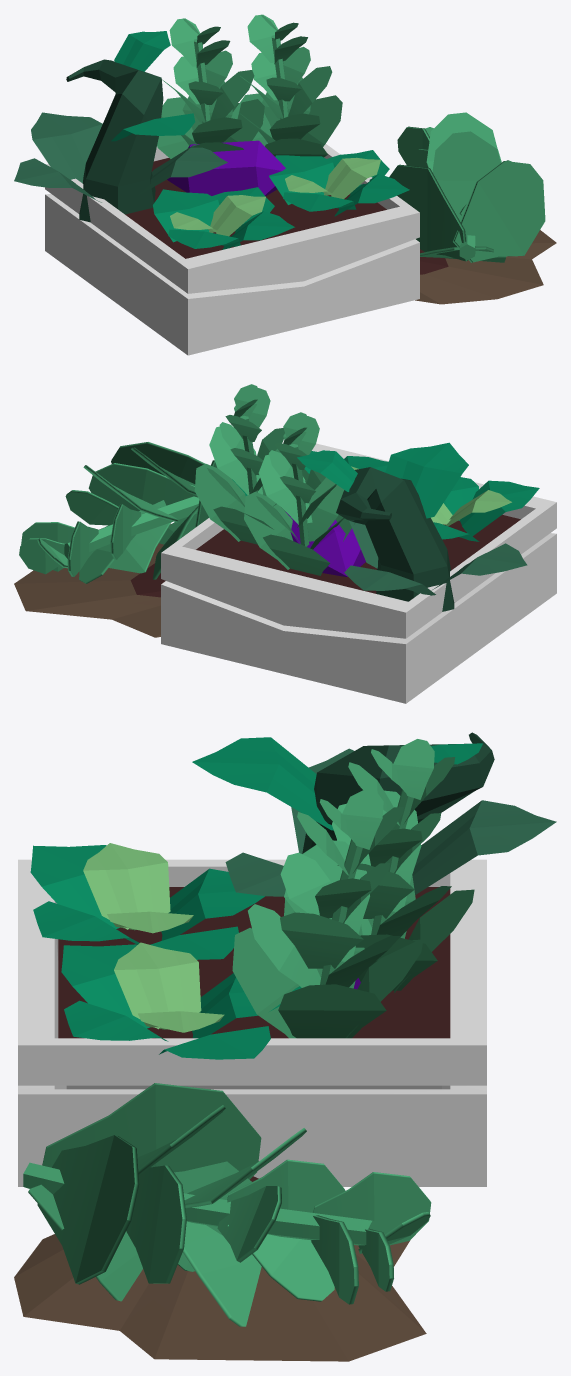
The model's file is Destroyed_plant_farm_005.fbx.
3 views of the same model, one above another, from view 1: azimuth 30°, elevation 25°; view 2: azimuth 150°, elevation 25°; view 3: azimuth 270°, elevation 25° (orthographic). The views are drawn at different scales.
Parts seen in each view (by area): view 1: polySurface1103, polySurface2858, polySurface1102, polySurface2421, polySurface2416, polySurface2387, polySurface2406, polySurface2407, polySurface2868, polySurface1104, polySurface2388, polySurface2389 (+4 smaller); view 2: polySurface1103, polySurface1102, polySurface2858, polySurface2416, polySurface2387, polySurface2421, polySurface2868, polySurface2406, polySurface1104, polySurface2393, polySurface2388, polySurface2389 (+4 smaller); view 3: polySurface2858, polySurface1102, polySurface1103, polySurface2421, polySurface2868, polySurface2406, polySurface2407, polySurface2416, polySurface1104, polySurface2389, polySurface2387, polySurface2393 (+3 smaller).
Part boxes in pixels (left/top/right/bottom): polySurface1103: left=45, top=194, right=419, bottom=355; polySurface2858: left=389, top=112, right=545, bottom=262; polySurface1102: left=45, top=144, right=419, bottom=293; polySurface2421: left=231, top=14, right=342, bottom=157; polySurface2416: left=157, top=18, right=264, bottom=158; polySurface2387: left=66, top=59, right=163, bottom=222; polySurface2406: left=153, top=187, right=294, bottom=249; polySurface2407: left=269, top=150, right=409, bottom=216; polySurface2868: left=415, top=230, right=556, bottom=304; polySurface1104: left=125, top=158, right=386, bottom=258; polySurface2388: left=167, top=140, right=285, bottom=196; polySurface2389: left=31, top=112, right=102, bottom=183; polySurface1103: left=161, top=533, right=556, bottom=703; polySurface1102: left=161, top=443, right=556, bottom=638; polySurface2858: left=19, top=442, right=217, bottom=583; polySurface2416: left=244, top=412, right=355, bottom=575; polySurface2387: left=336, top=467, right=454, bottom=611; polySurface2421: left=194, top=384, right=309, bottom=544; polySurface2868: left=14, top=524, right=170, bottom=637; polySurface2406: left=431, top=477, right=539, bottom=541; polySurface1104: left=196, top=514, right=520, bottom=593; polySurface2393: left=385, top=442, right=468, bottom=518; polySurface2388: left=286, top=512, right=365, bottom=576; polySurface2389: left=344, top=565, right=435, bottom=595; polySurface2858: left=23, top=1083, right=431, bottom=1326; polySurface1102: left=18, top=859, right=486, bottom=1085; polySurface1103: left=18, top=939, right=486, bottom=1186; polySurface2421: left=232, top=788, right=423, bottom=1038; polySurface2868: left=14, top=1176, right=426, bottom=1361; polySurface2406: left=30, top=843, right=264, bottom=959; polySurface2407: left=61, top=942, right=301, bottom=1059; polySurface2416: left=284, top=739, right=474, bottom=992; polySurface1104: left=58, top=887, right=450, bottom=1038; polySurface2389: left=412, top=800, right=556, bottom=894; polySurface2387: left=302, top=732, right=494, bottom=853; polySurface2393: left=192, top=737, right=333, bottom=830.
Bounding box in the file's own units: 3.27 × 1.7 × 1.93.
